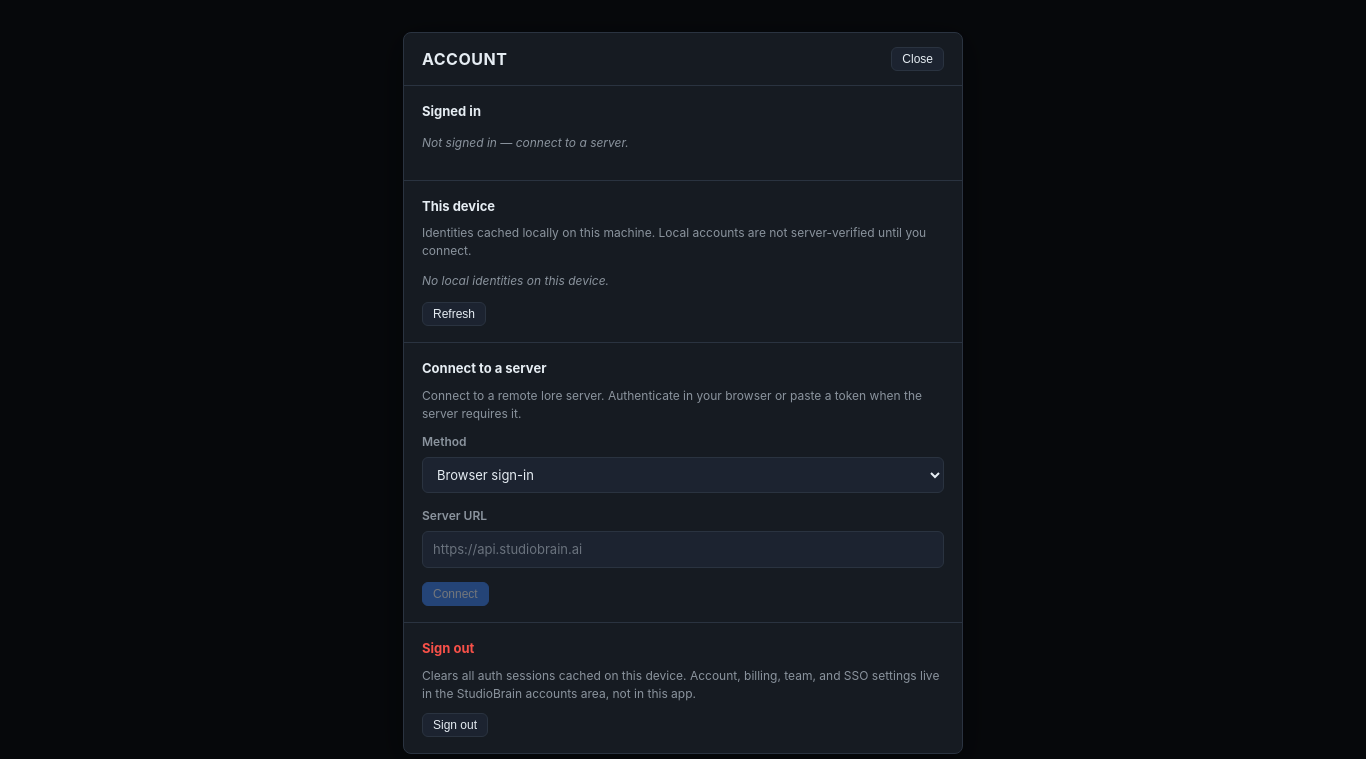
Scenario: auth-disabled connection from the account panel (#404) › rejects near-miss NotSupported messages with qualifiers
expect the text "Not signed in — connect to a server." is shown: met, box [422,134,629,150]
Step 1. Type "lore://192.0.2.10/repo" into the field labelled "Server URL" → (683, 549), box [422,530,944,568]
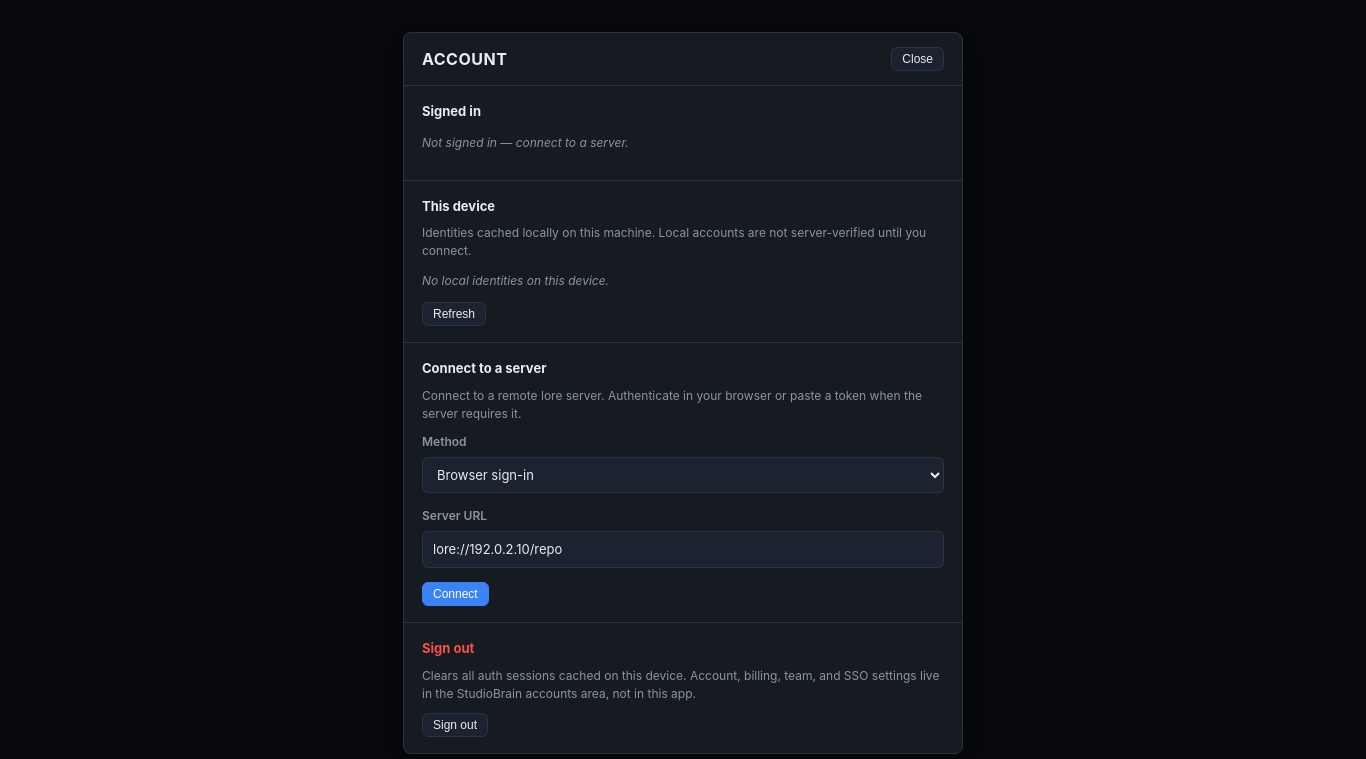
Step 2. Click the button "Connect" → (455, 594), box [422,582,489,606]
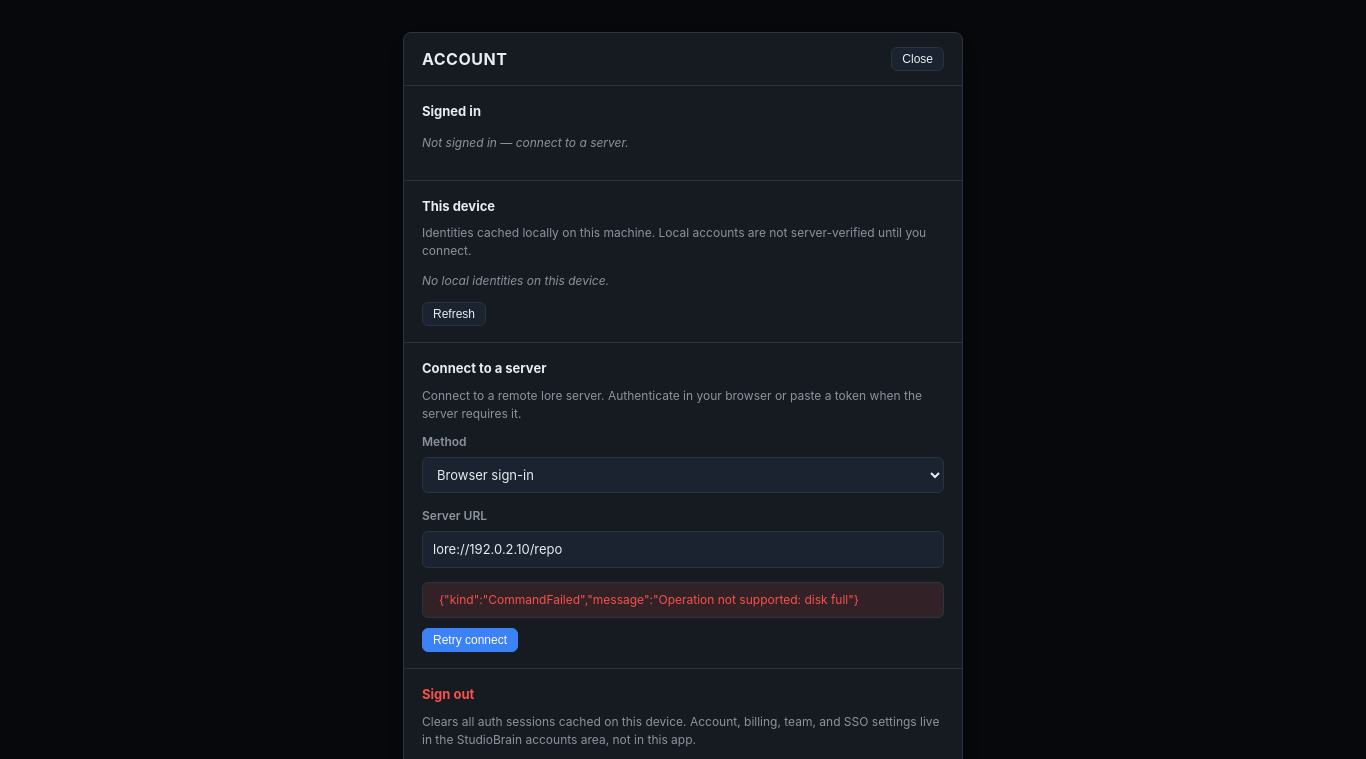
expect the text "disk full" is shown: met, box [439,592,859,607]
